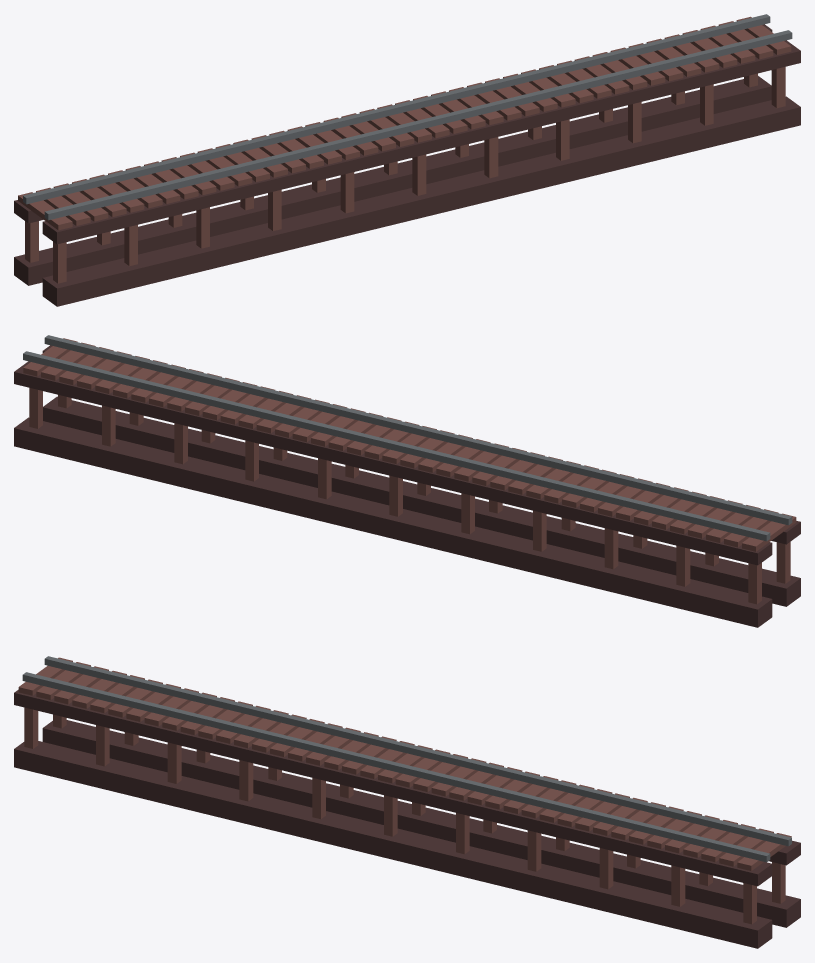
Rendered from DarkRoseWoodMechLarge0_85GaugeStraight1.fbx.
The picture shows the model from 3 angles, top to bottom: view 1: azimuth 30°, elevation 25°; view 2: azimuth 150°, elevation 25°; view 3: azimuth 330°, elevation 25°; orthographic projection.
Parts seen in each view (by area): view 1: DarkRoseWoodMechLarge0_85GaugeStraight1; view 2: DarkRoseWoodMechLarge0_85GaugeStraight1; view 3: DarkRoseWoodMechLarge0_85GaugeStraight1.
Part boxes in pixels (left/top/right/bottom): DarkRoseWoodMechLarge0_85GaugeStraight1: left=14, top=14, right=800, bottom=306; DarkRoseWoodMechLarge0_85GaugeStraight1: left=14, top=335, right=800, bottom=627; DarkRoseWoodMechLarge0_85GaugeStraight1: left=14, top=656, right=800, bottom=948.
Bounding box in the file's own units: 1996 × 221 × 200.
